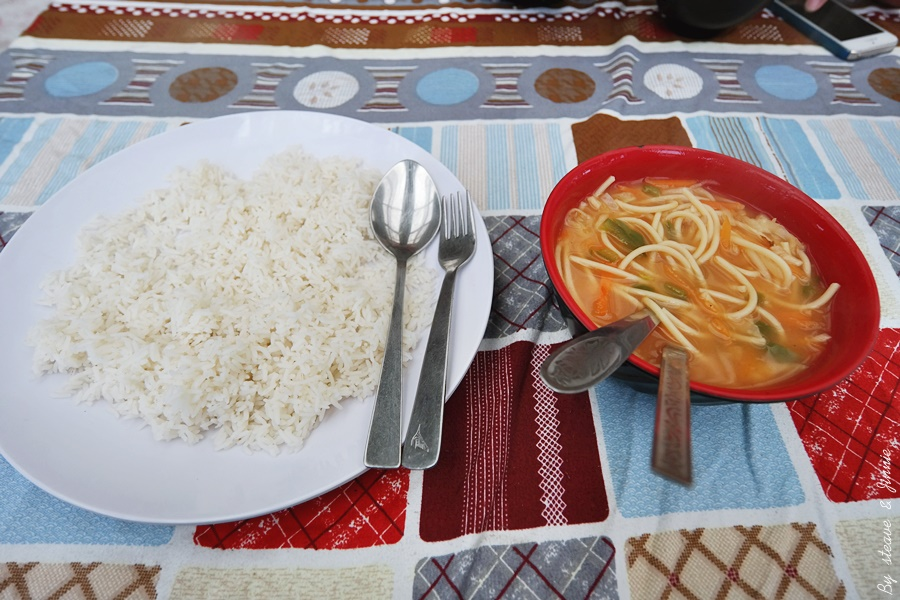plain rice: (68, 167, 407, 447)
plain spaghetti: (577, 180, 838, 390)
